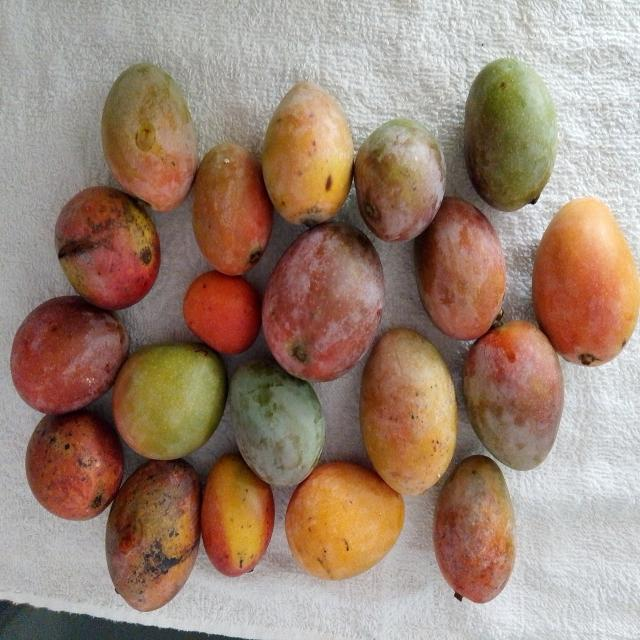mango: (263, 222, 384, 381), (533, 198, 639, 366), (360, 328, 457, 495), (463, 320, 564, 470), (106, 460, 201, 611), (464, 59, 557, 211), (102, 64, 197, 211), (11, 296, 129, 414), (285, 462, 404, 579), (112, 343, 227, 459), (262, 82, 353, 226), (415, 198, 506, 340), (55, 187, 160, 310), (434, 456, 516, 603), (230, 359, 325, 485), (354, 119, 446, 241), (26, 411, 123, 520), (192, 143, 272, 275), (201, 454, 274, 576)
